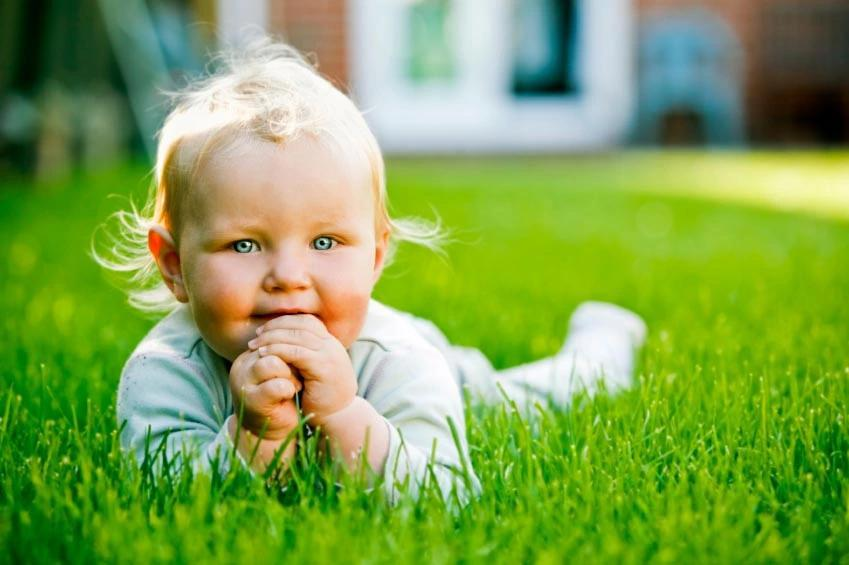child: (89, 30, 660, 507)
